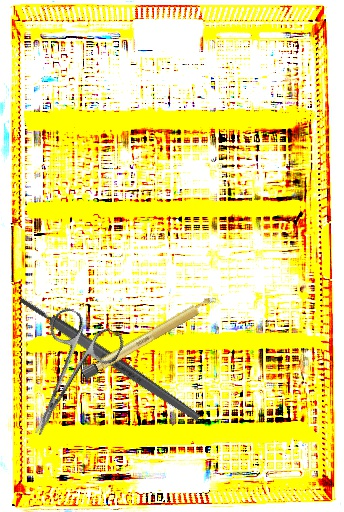Iris Scissors: (2, 304, 128, 450)
Scalpel Handle: (17, 293, 202, 425), (80, 293, 219, 381)
